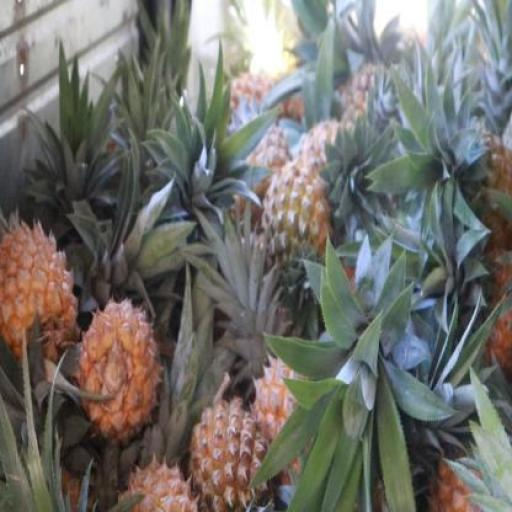Pineapple - v8 v1: (0, 224, 79, 368), (78, 301, 157, 435), (190, 399, 269, 512)
